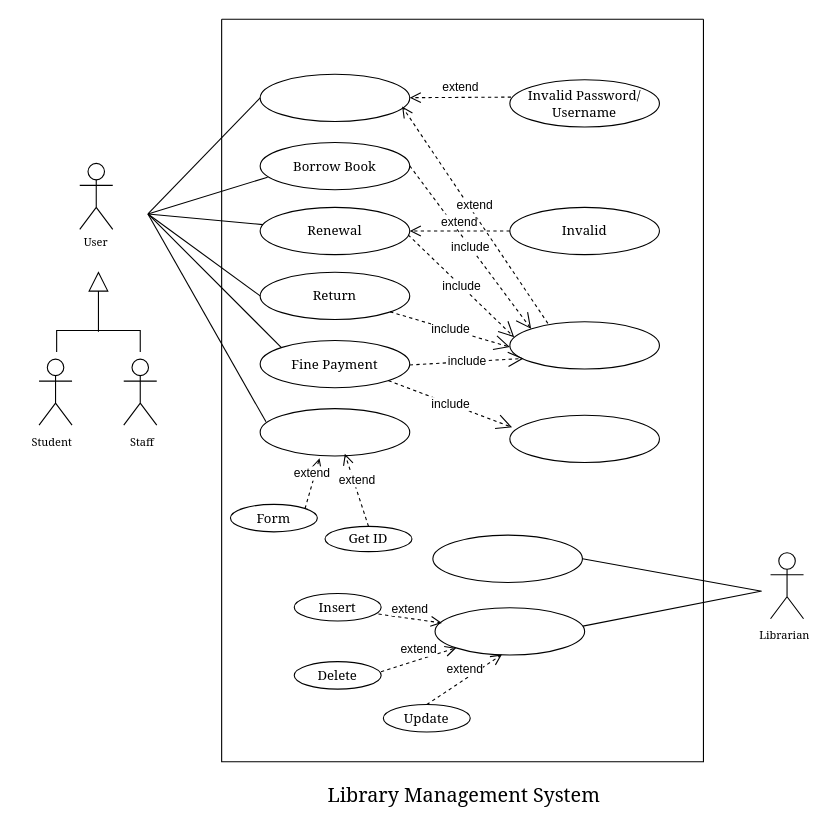
Image size: 836x831. Some labels were removed from this diagram. Here are the shapes that lost their labels. From the top down, the centre of each, then its label:
At point (334, 97): "Verification".
At point (584, 345): "Scanning Card".
At point (334, 432): "Register".
At point (584, 438): "Payment Method".
At point (507, 558): "Book Availability".
At point (509, 631): "Database Updation".
